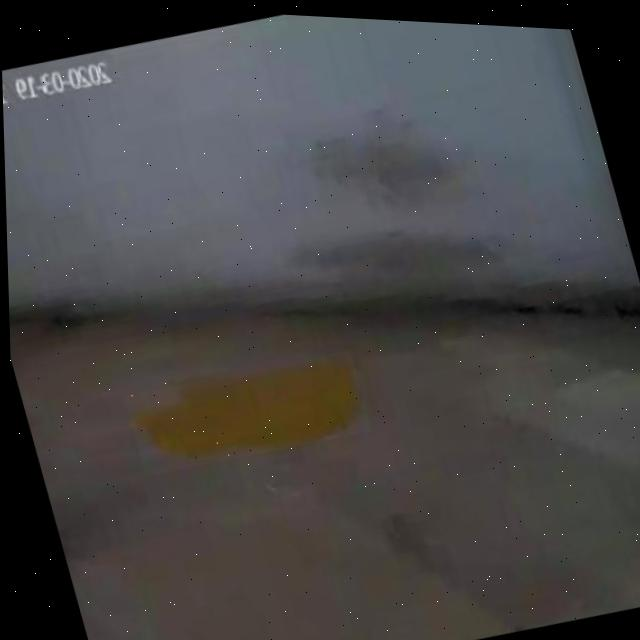spillage: (127, 362, 360, 459)
